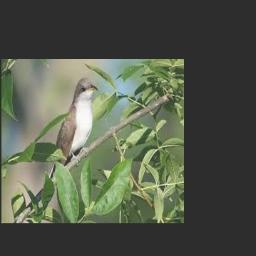Cuckoo: (46, 78, 98, 185)
